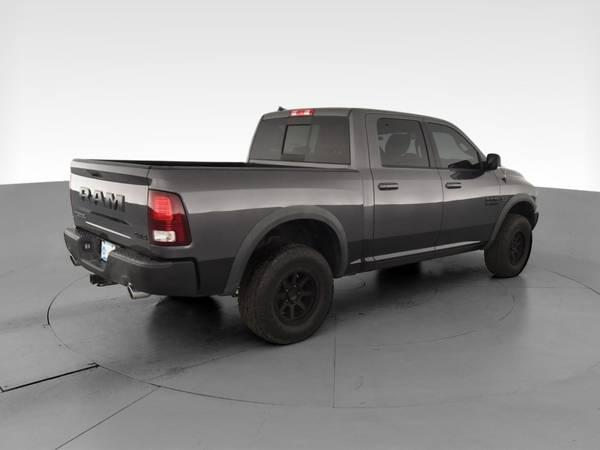Front_Fender: (490, 163, 538, 236)
Front_Right_Door: (438, 168, 500, 256)
Front_Right_Window: (422, 116, 493, 170)
Rear_Bumper: (64, 223, 198, 292)
Rear_Fender: (146, 165, 364, 295)
Rear_Right_Door: (357, 168, 444, 270)
Rear_Right_Window: (348, 111, 434, 170)
Rear_Windshield: (244, 110, 351, 171)
Right_Taillight: (145, 188, 193, 245)
Tailgate: (70, 160, 150, 255)
Wheel: (242, 236, 342, 342), (487, 212, 535, 278)
